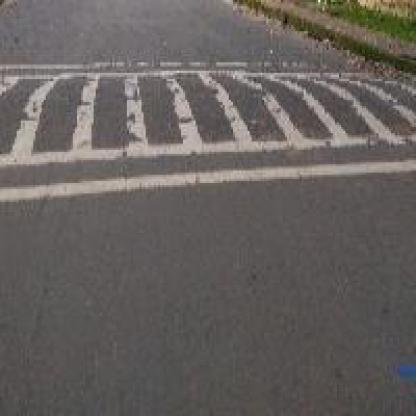Speed Bump: (0, 64, 414, 204)
